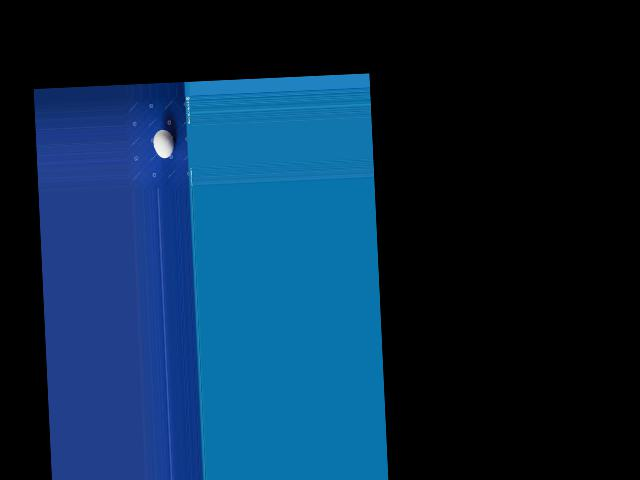egg: (153, 129, 175, 159)
